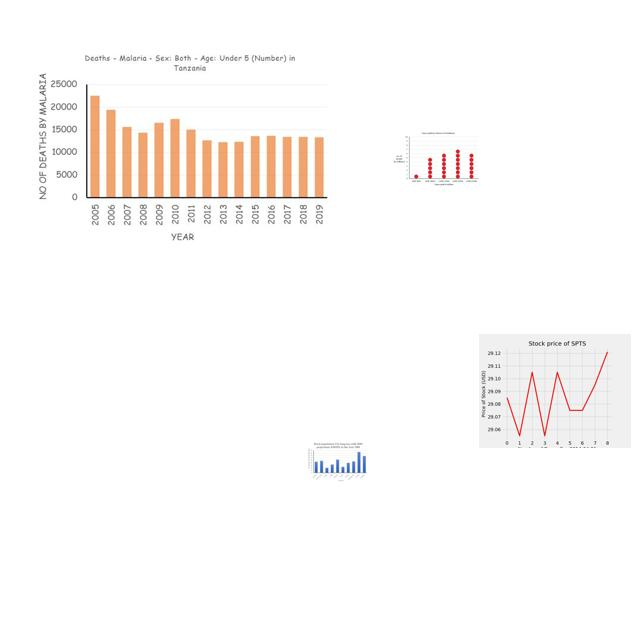Graph: (33, 50, 332, 246), (479, 334, 631, 448), (391, 130, 480, 188), (307, 442, 368, 483)
